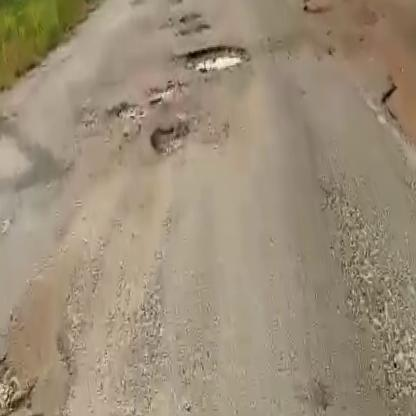pothole: (180, 39, 252, 77), (145, 117, 196, 157), (106, 96, 148, 138), (146, 79, 190, 108)
